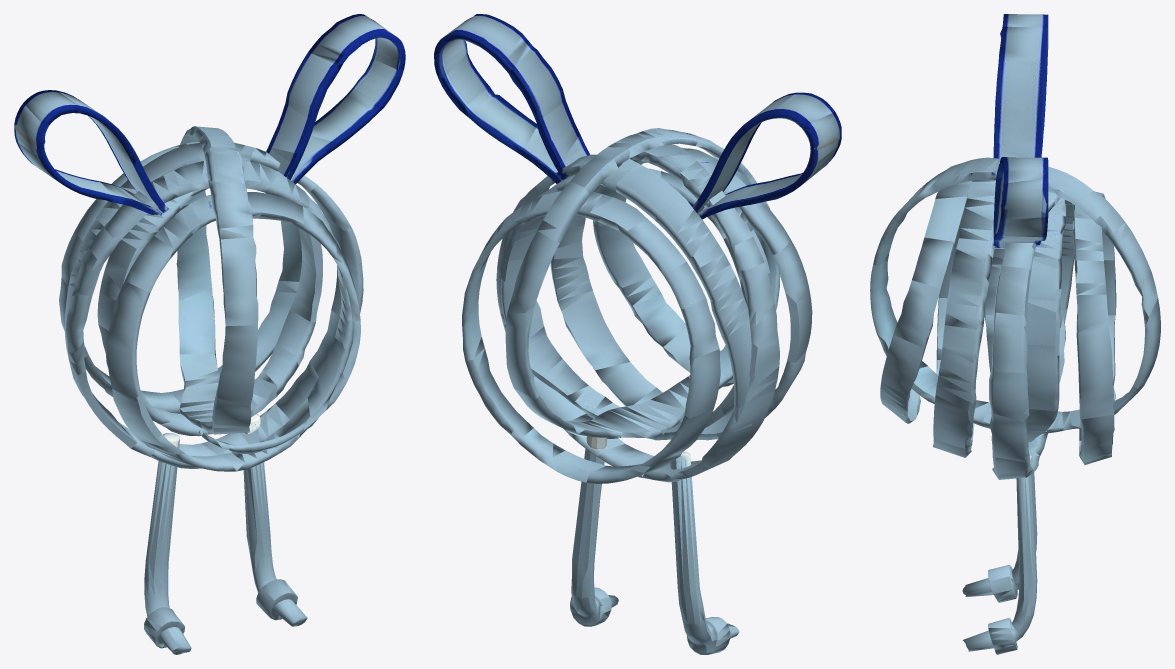
The model's file is tikazzelu.glb.
The picture shows the model from 3 angles, left to right: view 1: azimuth 30°, elevation 25°; view 2: azimuth 150°, elevation 25°; view 3: azimuth 270°, elevation 25°; orthographic projection. The views are drawn at different scales.
Visible parts, largest first — view 1: Mesh_0; view 2: Mesh_0; view 3: Mesh_0.
Part boxes in pixels (x1=…): Mesh_0: x1=14, y1=14, x2=405, y2=654; Mesh_0: x1=434, y1=14, x2=841, y2=654; Mesh_0: x1=870, y1=14, x2=1160, y2=654.
Size of the model in its own units: 0.6504 by 0.9521 by 0.4663.
Materials: 1 (1 with a texture image).
